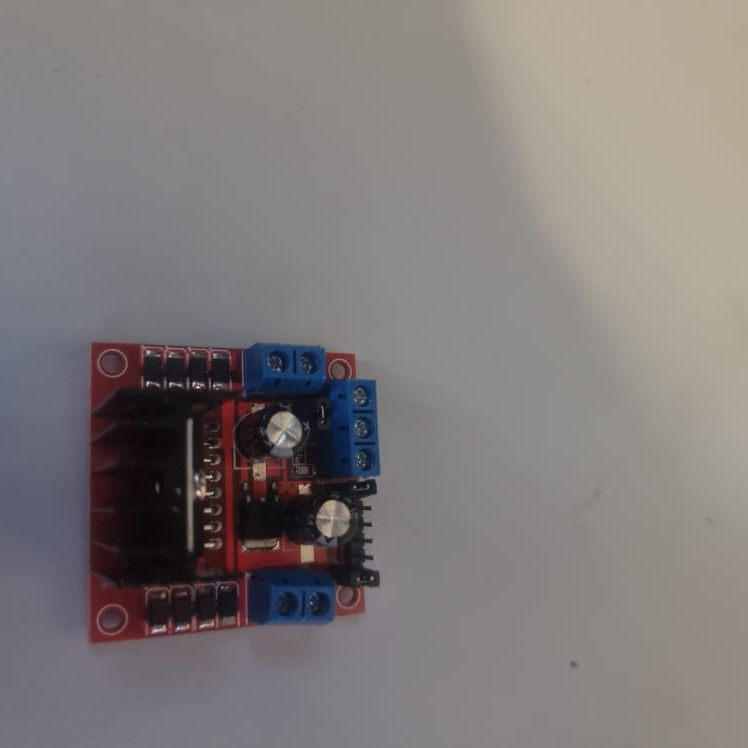MOTOR: (85, 345, 387, 645)
